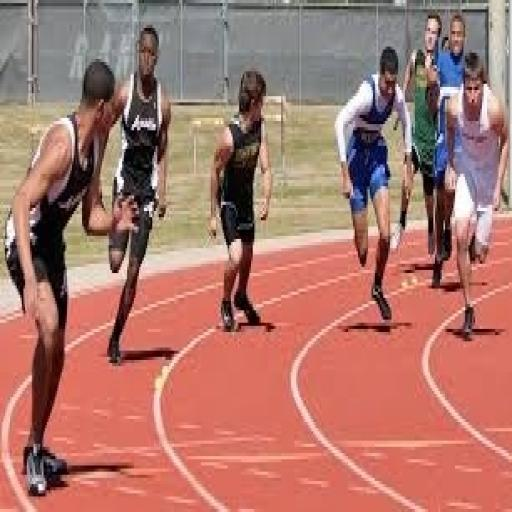running: (2, 56, 140, 499), (87, 22, 174, 369), (333, 43, 417, 326), (442, 50, 510, 341), (206, 65, 276, 338), (388, 9, 445, 264)
